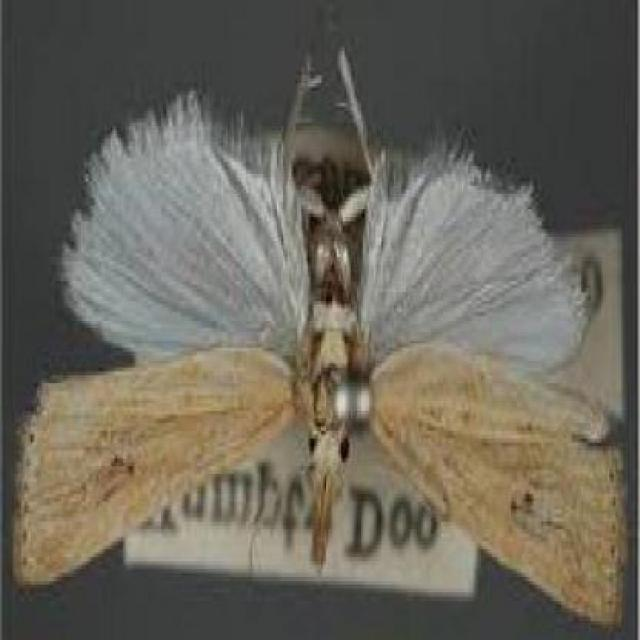stem-borer: (8, 39, 627, 632)
